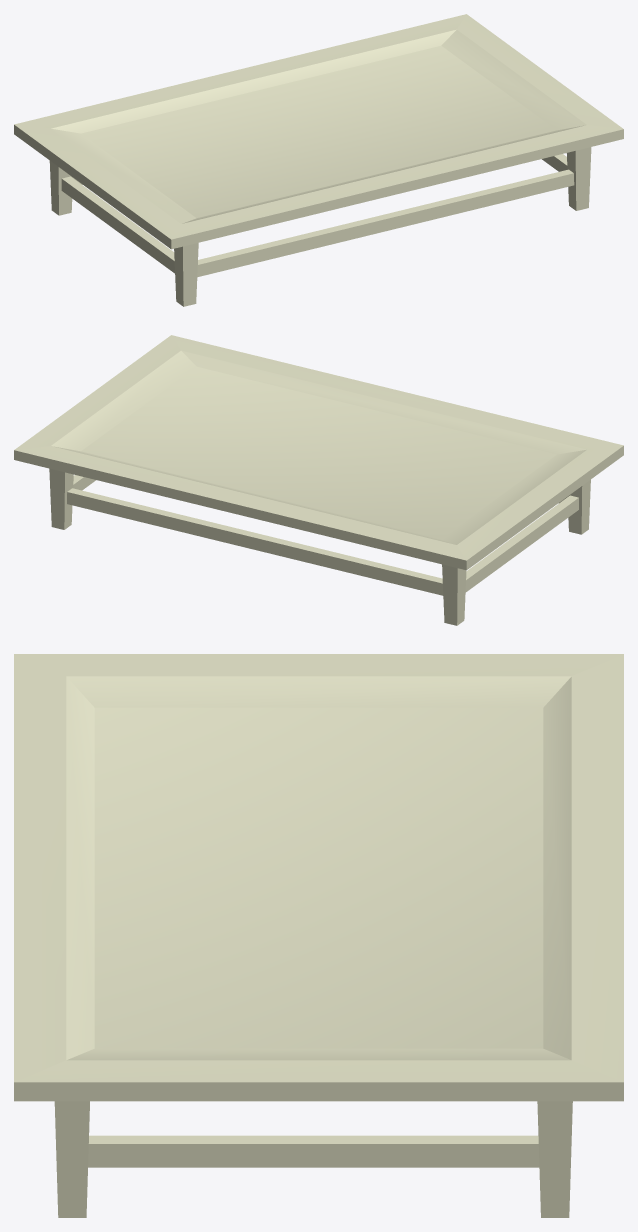
The model's file is mesitaBlanca.glb.
3 renders of one model, top to bottom at view 1: azimuth 30°, elevation 25°; view 2: azimuth 150°, elevation 25°; view 3: azimuth 270°, elevation 25°, orthographic. The views are drawn at different scales.
Parts seen in each view (by area): view 1: coffee_table_001; view 2: coffee_table_001; view 3: coffee_table_001.
Boxes of the visible parts, <box> form: coffee_table_001: <box>14,14,623,306</box>; coffee_table_001: <box>14,335,623,625</box>; coffee_table_001: <box>14,654,623,1217</box>.
Size of the model in its own units: 1.72 by 0.2952 by 1.03.
